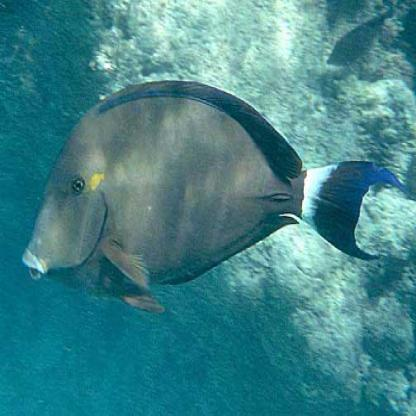Acanthuridae -Surgeonfishes-: (20, 77, 405, 306)
